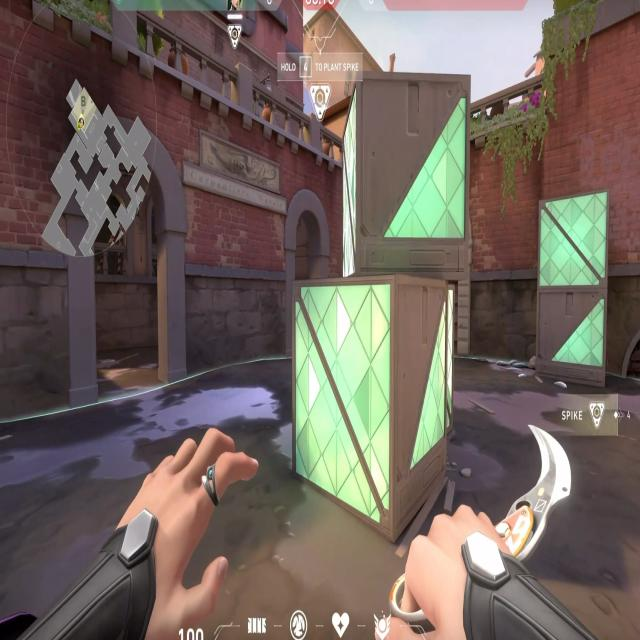B_Boathouse: (60, 109, 190, 414), (283, 182, 335, 358)
B_Site_Box: (293, 38, 480, 539)
